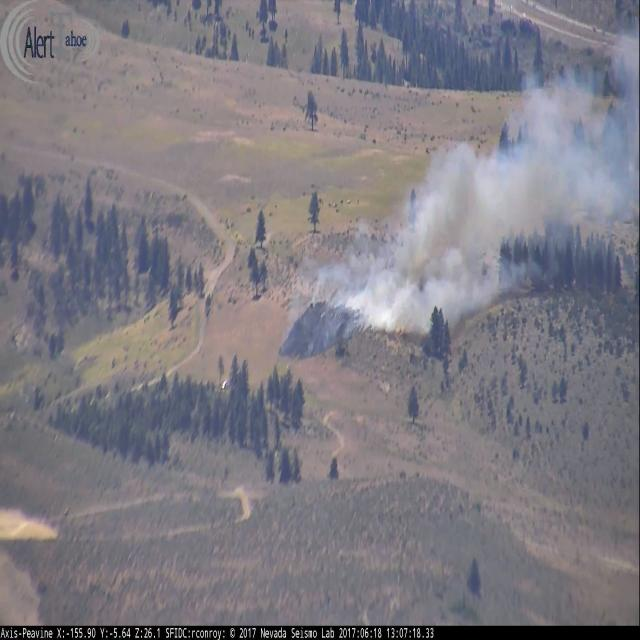smoke: (288, 47, 640, 357)
